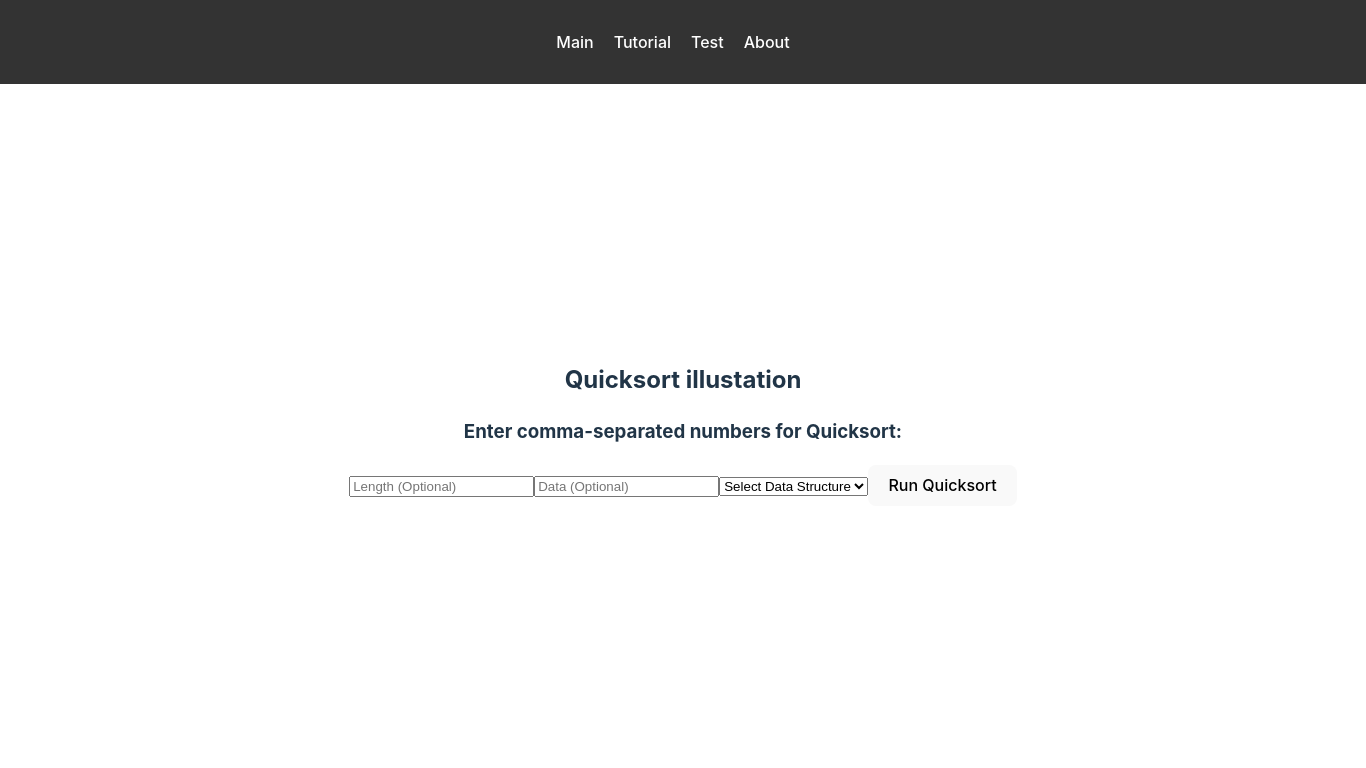
Test case: App › renders the Tutorial component for the "/tutorial" route
Click the link "Tutorial" at (642, 42), box [614,32,671,52]
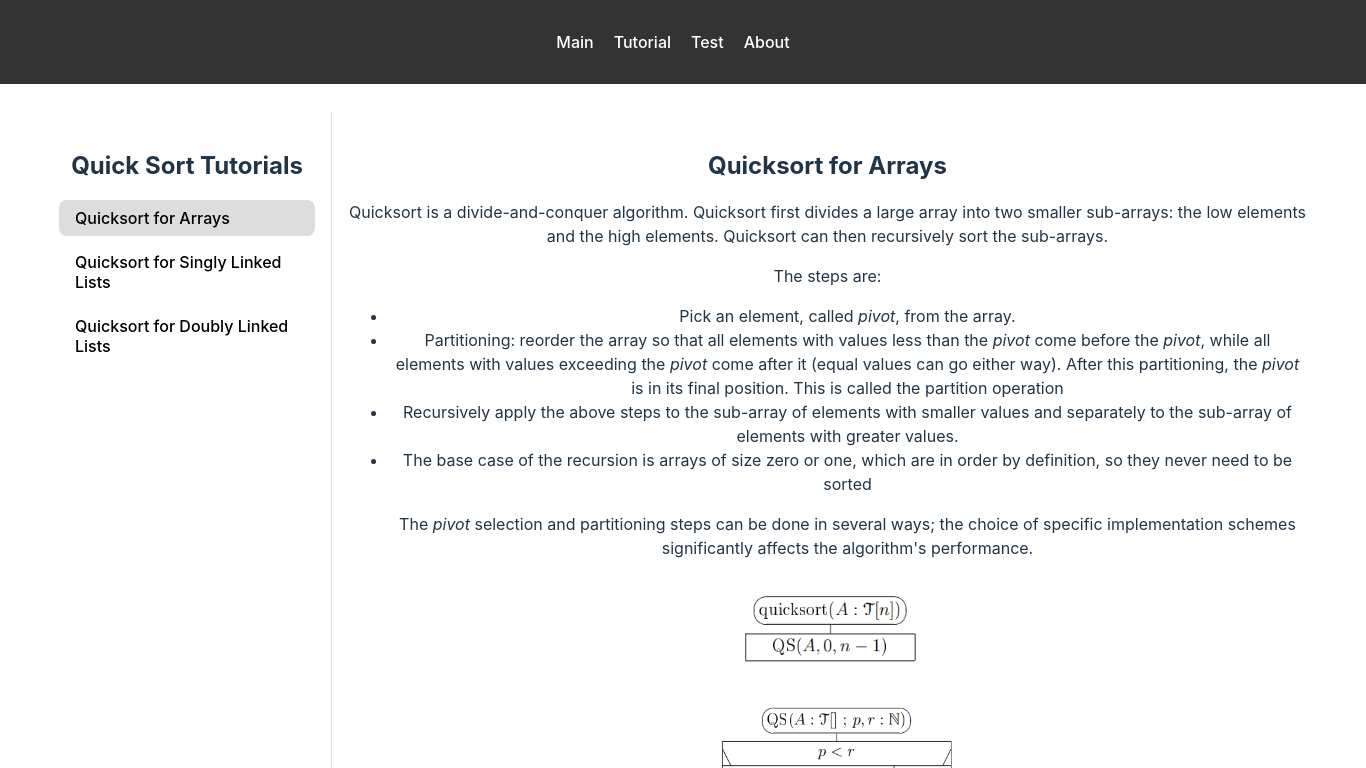
Now the heading "Quick Sort Tutorials" is shown, box [59,148,315,184]
